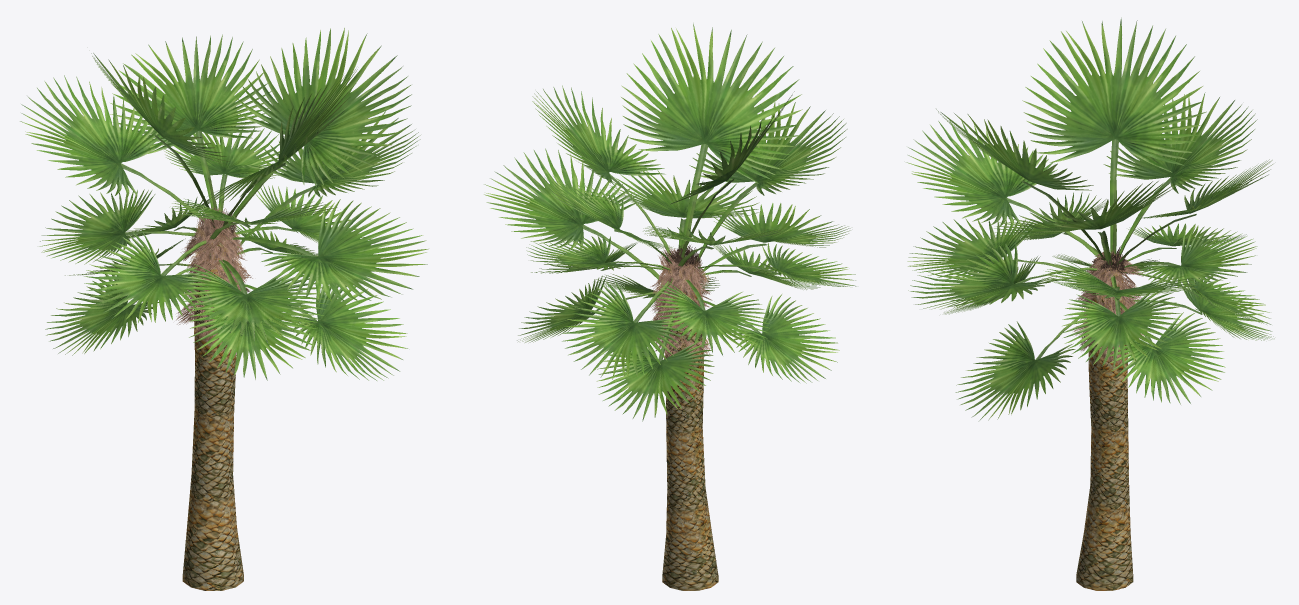
The model's file is pac_LOD0.fbx.
The picture shows the model from 3 angles, left to right: view 1: azimuth 30°, elevation 25°; view 2: azimuth 150°, elevation 25°; view 3: azimuth 270°, elevation 25°; orthographic projection. The views are drawn at different scales.
Visible parts, largest first — view 1: Mesh Object; view 2: Mesh Object; view 3: Mesh Object.
Boxes of the visible parts, x1,y1,x2,y2 form: Mesh Object: (20,28,428,590); Mesh Object: (484,23,856,590); Mesh Object: (906,17,1274,590).
Size of the model in its own units: 13.37 by 19.24 by 13.14.
